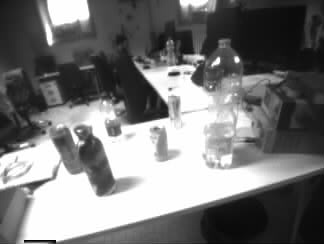Bottle: (203, 41, 239, 168), (78, 126, 114, 196), (101, 94, 122, 139), (166, 36, 174, 67)
Tin can: (49, 124, 78, 174), (150, 127, 167, 162), (168, 95, 180, 123)
